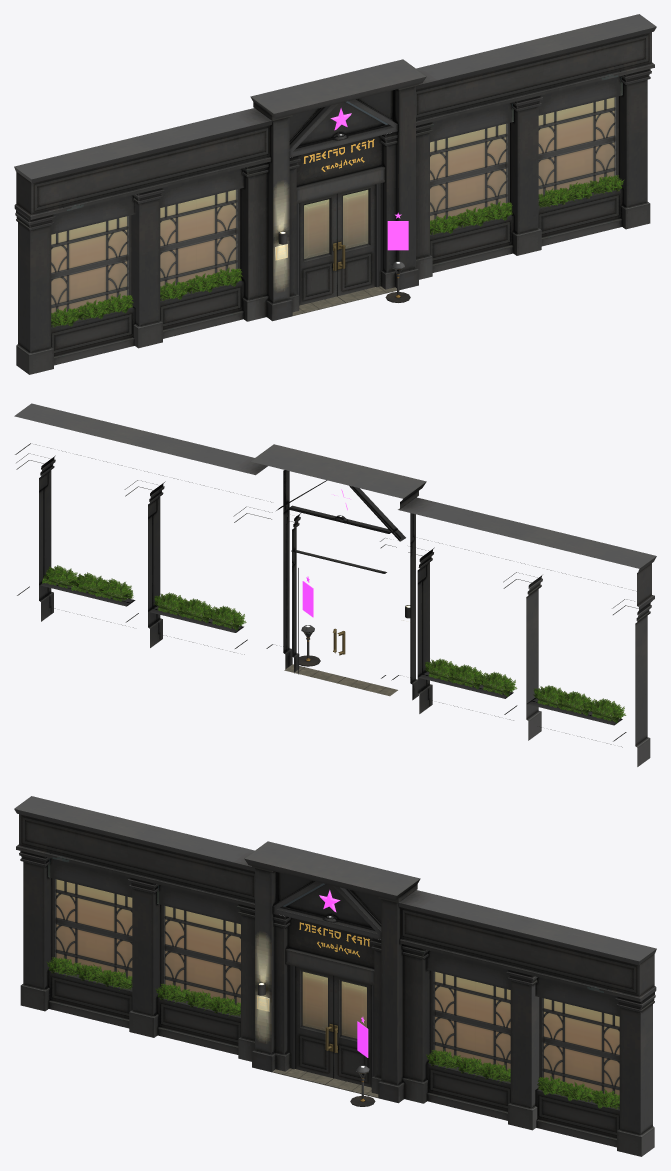
Rendered from t1_b_restaurant_futsu.glb.
3 renders of one model, top to bottom at view 1: azimuth 30°, elevation 25°; view 2: azimuth 150°, elevation 25°; view 3: azimuth 330°, elevation 25°, orthographic.
Visible parts, largest first — view 1: nomerge_t1_b_restaurant_futsu_mesh, nomerge_t1_b_restaurant_futsu_holo_model_mesh; view 2: nomerge_t1_b_restaurant_futsu_mesh; view 3: nomerge_t1_b_restaurant_futsu_mesh, nomerge_t1_b_restaurant_futsu_holo_model_mesh.
Boxes of the visible parts, bbox=[...] form: nomerge_t1_b_restaurant_futsu_mesh: bbox=[14, 14, 656, 374]; nomerge_t1_b_restaurant_futsu_holo_model_mesh: bbox=[330, 108, 408, 250]; nomerge_t1_b_restaurant_futsu_mesh: bbox=[14, 403, 656, 766]; nomerge_t1_b_restaurant_futsu_mesh: bbox=[14, 796, 656, 1156]; nomerge_t1_b_restaurant_futsu_holo_model_mesh: bbox=[319, 890, 368, 1057].
Bounding box in the file's own units: 14.26 × 4.61 × 1.3.
4 materials, 3 textured.
